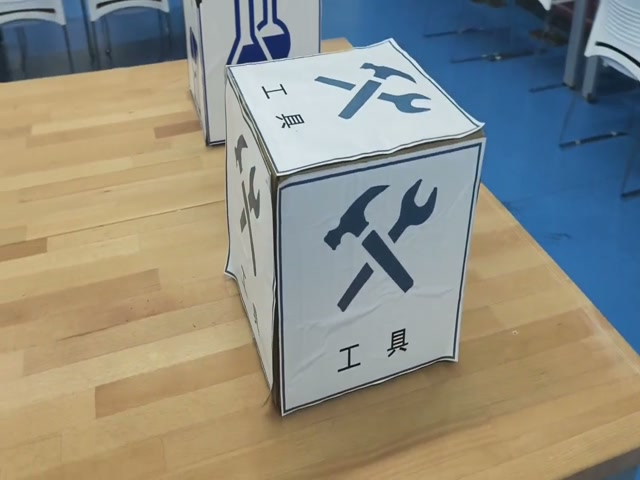Cube_tool: (225, 40, 487, 182)
